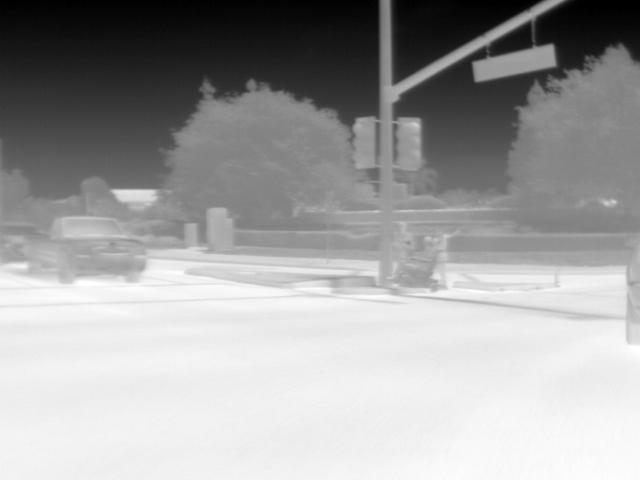car: (24, 216, 150, 282), (624, 228, 640, 343), (1, 222, 39, 266)
person: (425, 225, 464, 292), (393, 218, 416, 266)
